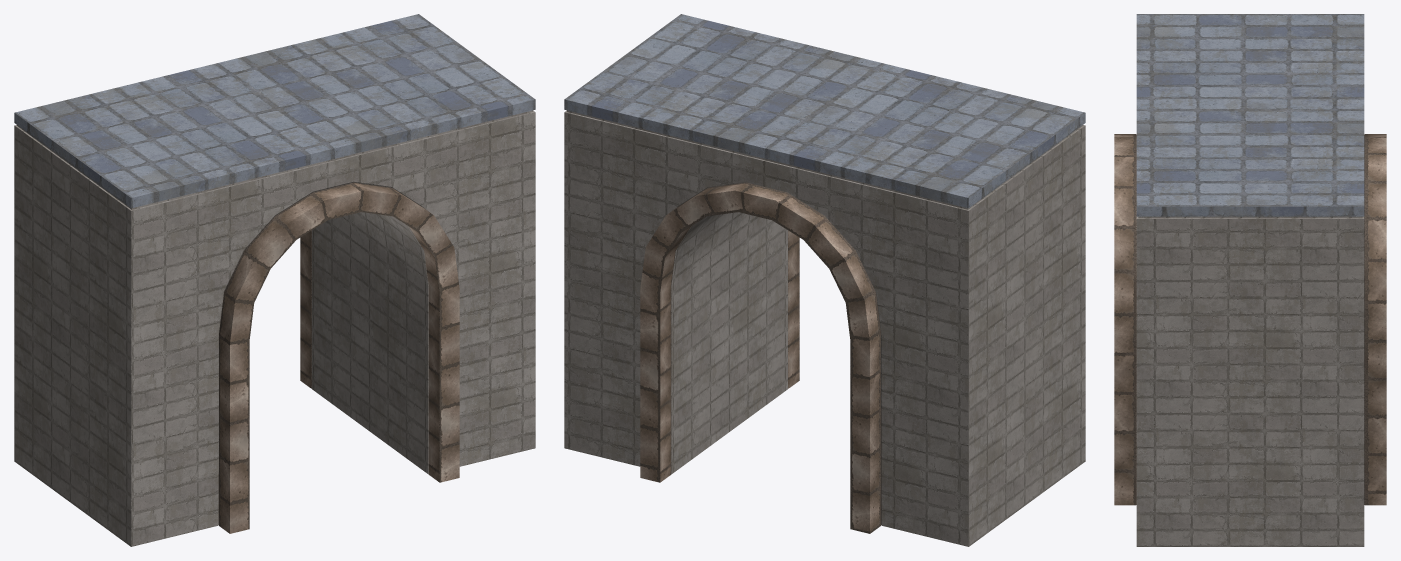
Rendered from SewerSet1_12mV1.fbx.
3 views of the same model, side by side, from view 1: azimuth 30°, elevation 25°; view 2: azimuth 150°, elevation 25°; view 3: azimuth 270°, elevation 25° (orthographic). The views are drawn at different scales.
Parts seen in each view (by area): view 1: Box084; view 2: Box084; view 3: Box084.
Boxes of the visible parts, box(x1,y1,x2,y2) form: Box084: box(14, 14, 535, 546); Box084: box(564, 14, 1085, 546); Box084: box(1114, 14, 1386, 546).
Bounding box in the file's own units: 2500 × 2061 × 1494.
